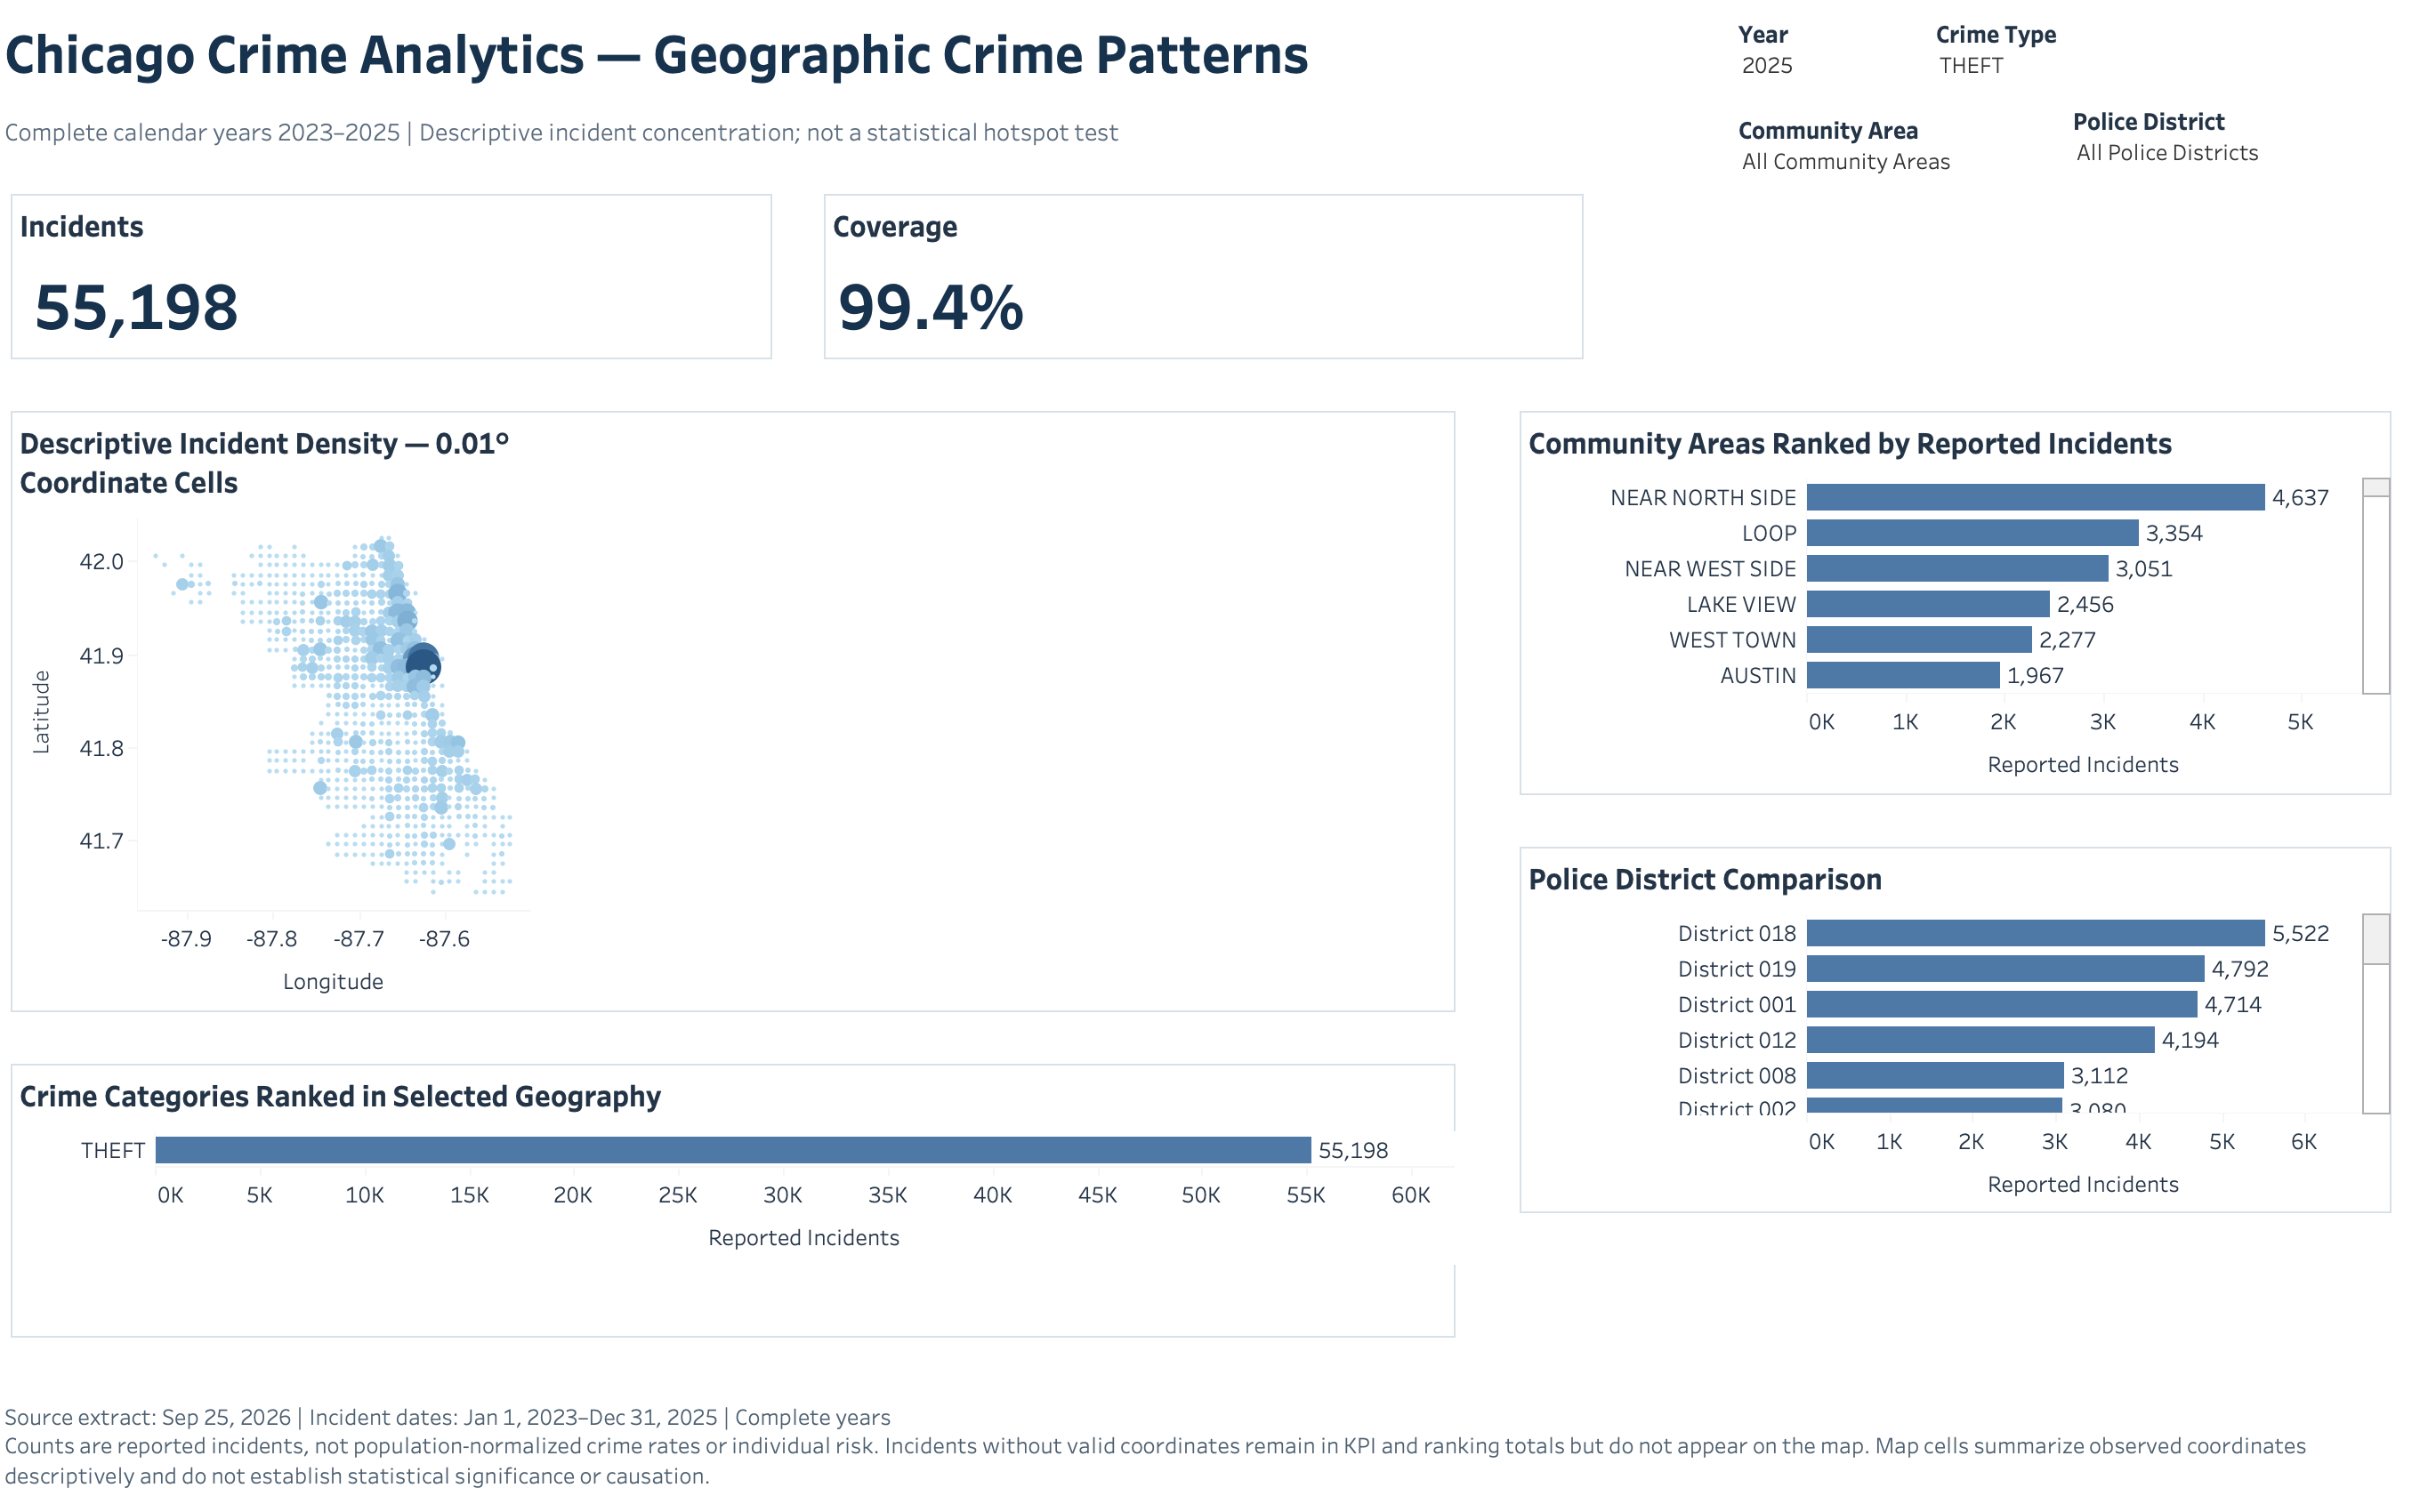

Layout of this report page (visuals, bound fields, positions):
{"tool":"tableau","page":{"name":"Geographic Crime Patterns","canvas":[1360,850],"ordinal":1},"visuals":[{"type":"title","box":[24.5,10.2,952,61.2]},{"type":"parameter","param":"[Parameters].[pSelectedYear]","box":[965.6,18.7,115.6,44.2]},{"type":"parameter","param":"[Parameters].[pCrimeType]","box":[1083.9,18.7,142.8,44.2]},{"type":"text","box":[24.5,66.3,952,30.6]},{"type":"parameter","param":"[Parameters].[pCommunityArea]","box":[965.6,66.3,190.4,44.2]},{"type":"parameter","param":"[Parameters].[pDistrict]","box":[1158.7,66.3,190.4,44.2]},{"type":"worksheet","title":"Geographic Selected Incidents","mark":"Text","box":[24.5,110.5,428.4,102]},{"type":"worksheet","title":"Geographic Coverage Percentage","mark":"Text","box":[469.2,110.5,428.4,102]},{"type":"worksheet","title":"Chicago Geographic Crime Map","mark":"Circle","rows":["cell_latitude"],"cols":["cell_longitude"],"box":[24.5,229.5,802.4,340]},{"type":"worksheet","title":"Community Area Ranking","mark":"Bar","rows":["community_area_name"],"cols":["reported_incident_count"],"box":[850,229.5,489.6,221]},{"type":"worksheet","title":"District Comparison","mark":"Bar","rows":["district_label"],"cols":["reported_incident_count"],"box":[850,467.5,489.6,212.5]},{"type":"worksheet","title":"Geographic Crime Category Analysis","mark":"Bar","rows":["primary_type"],"cols":["reported_incident_count"],"box":[24.5,586.5,802.4,161.5]},{"type":"text","box":[24.5,765,1316.5,72.2]}]}

Visuals, with their boxes in screenshot pixels (x1, y1, x2, y2), scaled from the page's 1360x850 canvas onto the 2420x1512 screenshot:
title: box=[44, 18, 1738, 127]
parameter: box=[1718, 33, 1924, 112]
parameter: box=[1929, 33, 2182, 112]
text: box=[44, 118, 1738, 173]
parameter: box=[1718, 118, 2057, 197]
parameter: box=[2061, 118, 2400, 197]
"Geographic Selected Incidents" worksheet (Text marks): box=[44, 197, 806, 378]
"Geographic Coverage Percentage" worksheet (Text marks): box=[835, 197, 1597, 378]
"Chicago Geographic Crime Map" worksheet (Circle marks): box=[44, 408, 1472, 1013]
"Community Area Ranking" worksheet (Bar marks): box=[1512, 408, 2384, 801]
"District Comparison" worksheet (Bar marks): box=[1512, 832, 2384, 1210]
"Geographic Crime Category Analysis" worksheet (Bar marks): box=[44, 1043, 1472, 1331]
text: box=[44, 1361, 2386, 1489]
